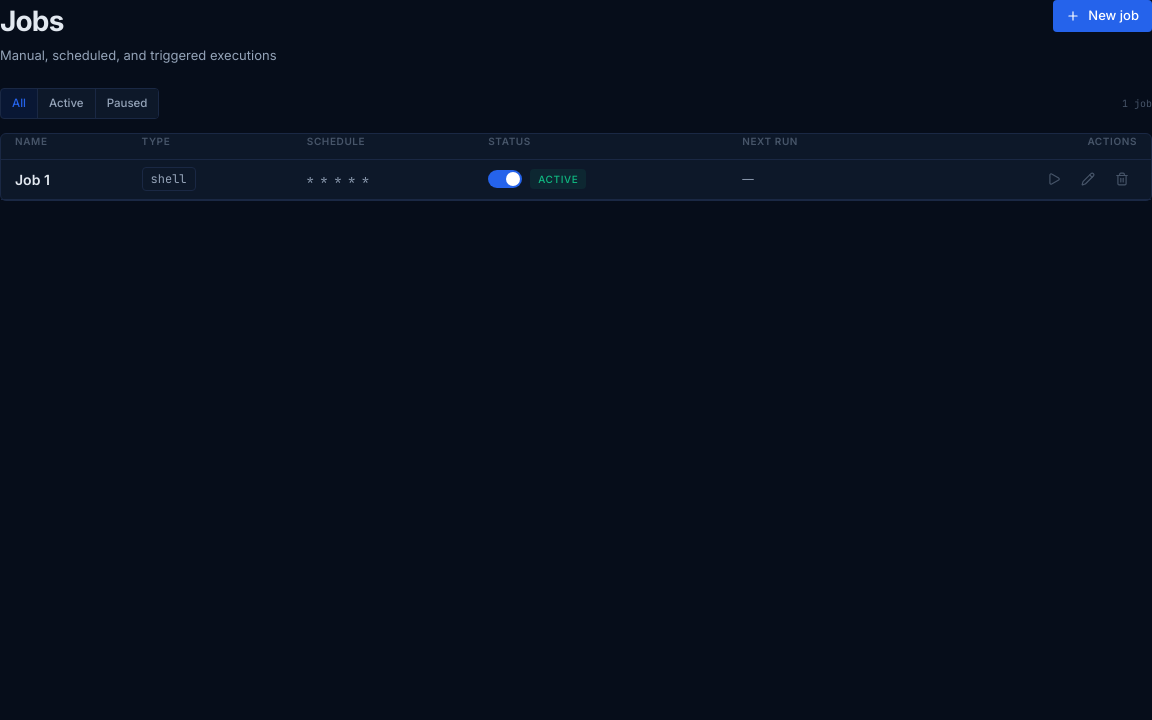
Test case: ActiveJobQueue › clicking Delete opens the confirm dialog
Click the button titled "Delete".
click(1122, 179)  # box [1107,164,1137,194]
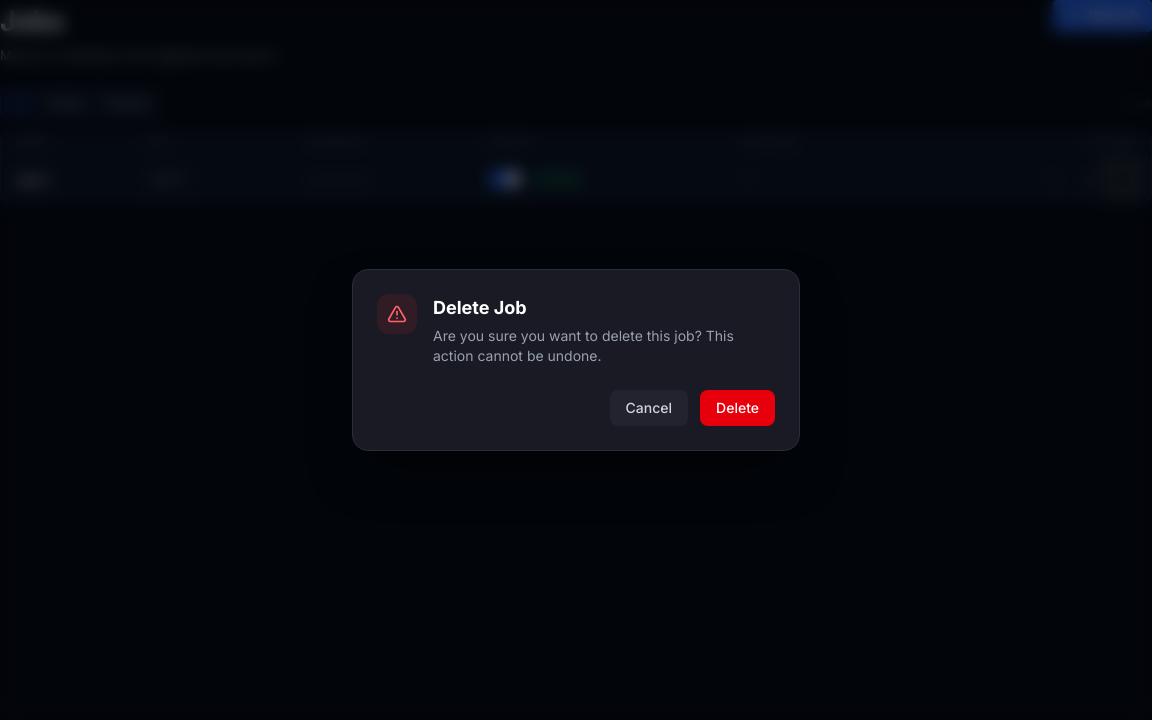
Expected: the heading "Delete Job" is shown, [433,297,527,318]
Expected: the text "Are you sure you want to delete this job? This action cannot be undone." is shown, [433,326,775,366]
